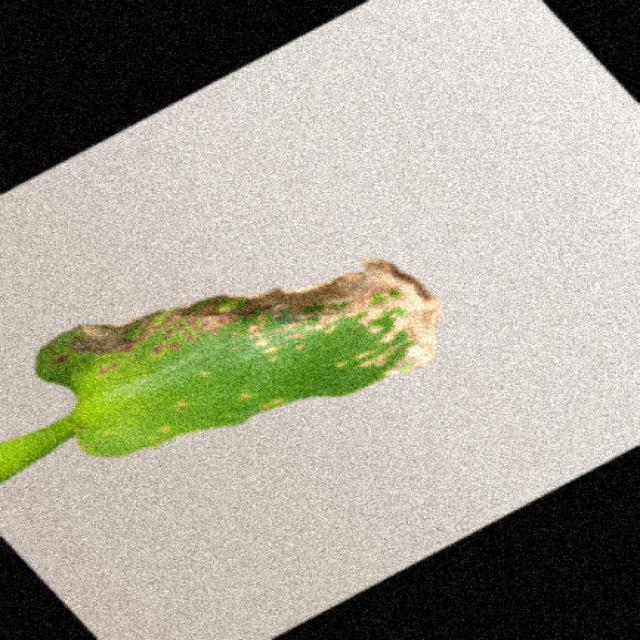daun berpenyakit bercak: (0, 259, 441, 481)
